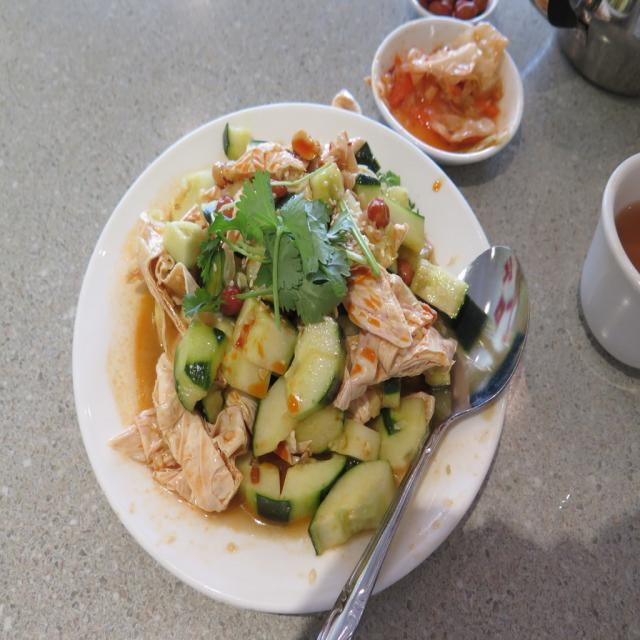Tea: (614, 200, 640, 273)
